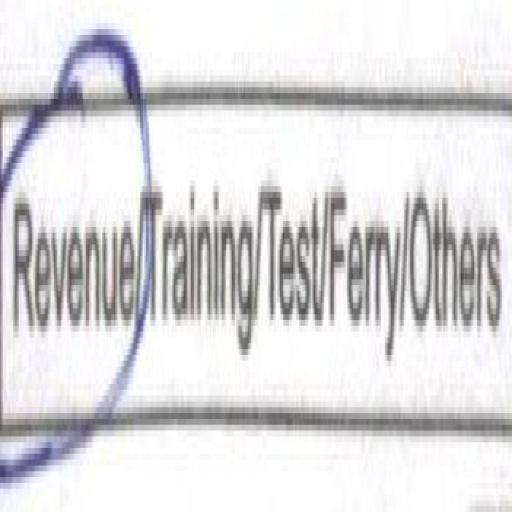check: (0, 0, 146, 489)
